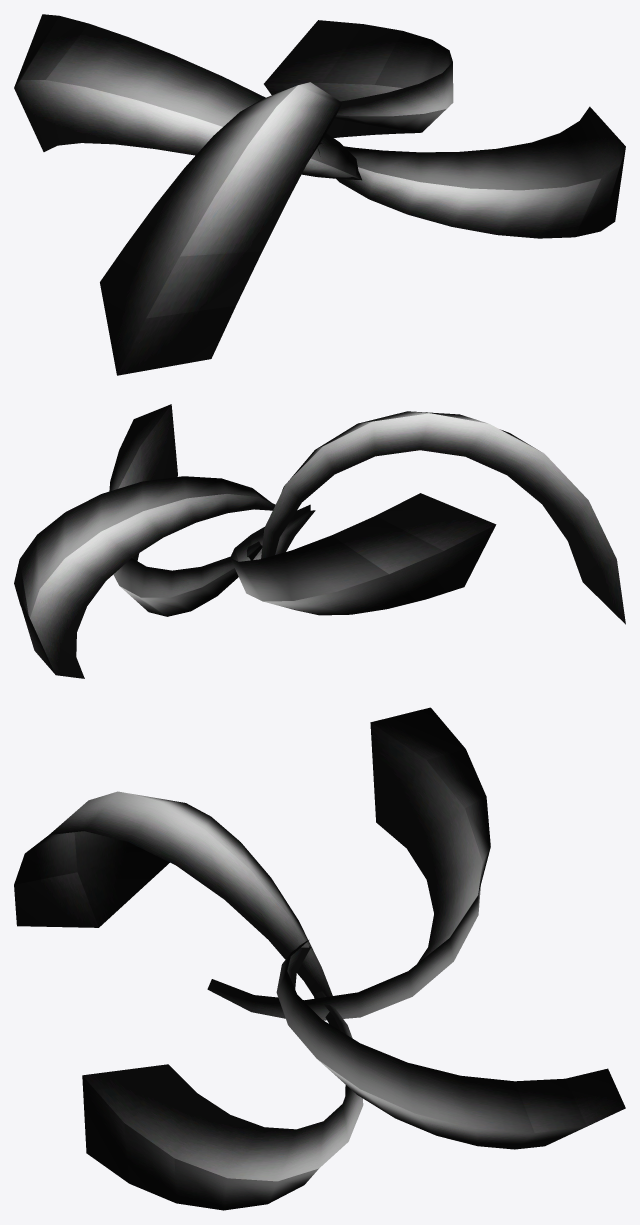
File: vfx_kurp_0220.dae
3 renders of one model, top to bottom at view 1: azimuth 30°, elevation 25°; view 2: azimuth 150°, elevation 25°; view 3: azimuth 270°, elevation 25°, orthographic. The views are drawn at different scales.
Visible parts, largest first — view 1: vfx_kurp_0220; view 2: vfx_kurp_0220; view 3: vfx_kurp_0220.
Boxes of the visible parts, x1,y1,x2,y2 form: vfx_kurp_0220: [14, 14, 625, 375]; vfx_kurp_0220: [14, 404, 625, 678]; vfx_kurp_0220: [14, 707, 625, 1210].
Bounding box in the file's own units: 12.84 × 11.79 × 6.16.
Materials: 1 (1 with a texture image).
